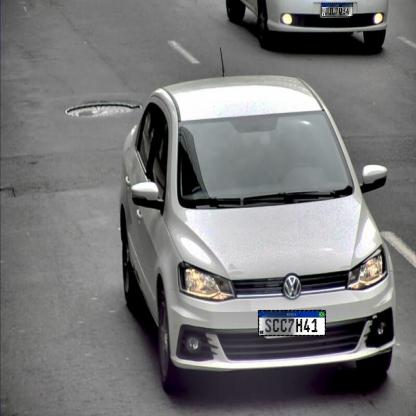PlacaM: (258, 310, 326, 336), (321, 2, 353, 16)
